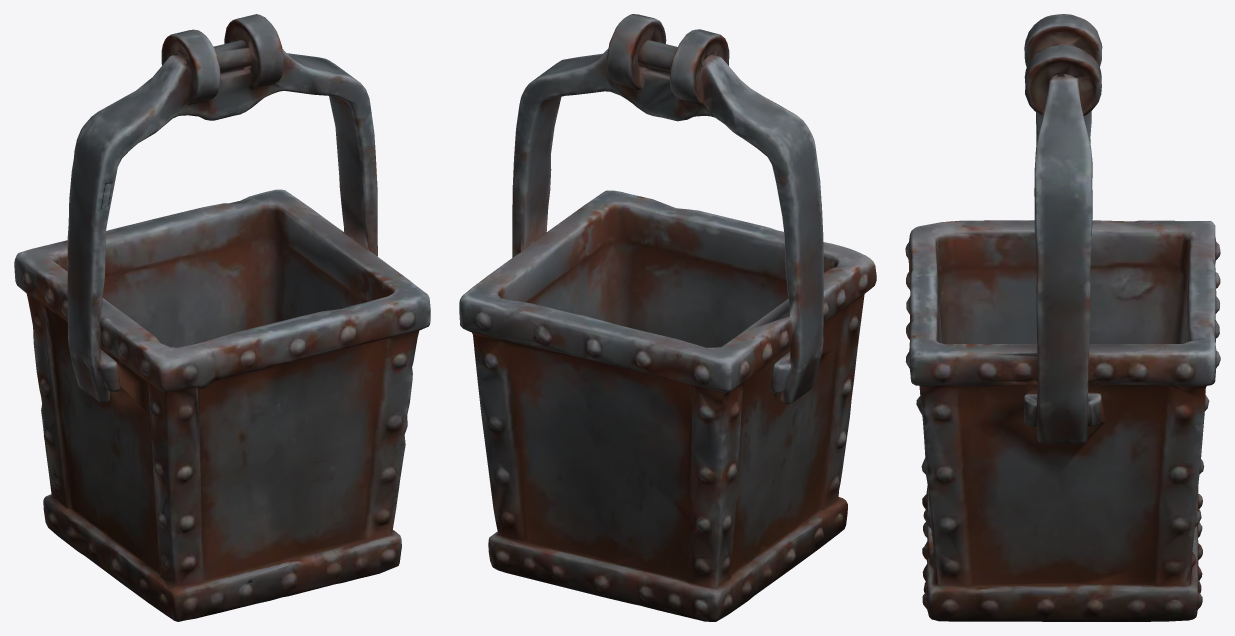
The model's file is capacho.movil.glb.
The picture shows the model from 3 angles, left to right: view 1: azimuth 30°, elevation 25°; view 2: azimuth 150°, elevation 25°; view 3: azimuth 270°, elevation 25°; orthographic projection. The views are drawn at different scales.
Visible parts, largest first — view 1: geometry_0; view 2: geometry_0; view 3: geometry_0.
Part boxes in pixels (<box>): geometry_0: <box>14,14,430,621</box>; geometry_0: <box>459,14,876,621</box>; geometry_0: <box>905,14,1220,621</box>.
Size of the model in its own units: 0.5792 by 1 by 0.5365.
1 material, 1 textured.
